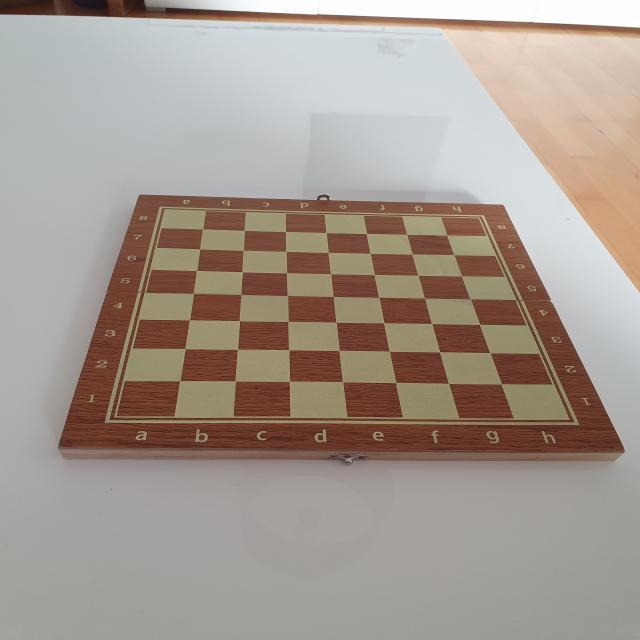chess-table-corners: (96, 408, 130, 428), (562, 412, 585, 430), (156, 201, 174, 216), (470, 211, 490, 222)
